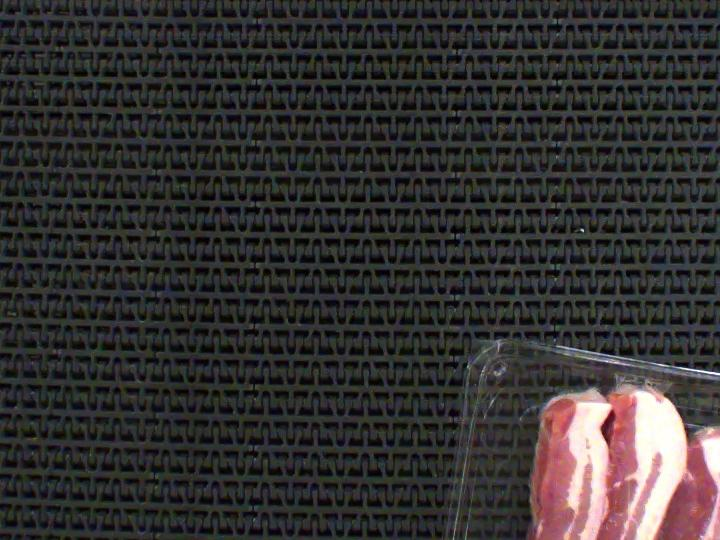packaging-error: (611, 363, 678, 402)
